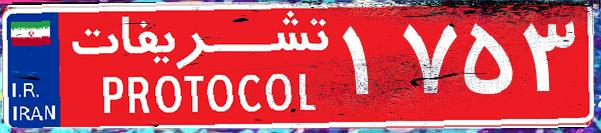1: (340, 20, 400, 115)
3: (520, 20, 580, 115)
5: (460, 20, 520, 115)
7: (400, 20, 460, 115)
تشریفات: (60, 8, 340, 125)
